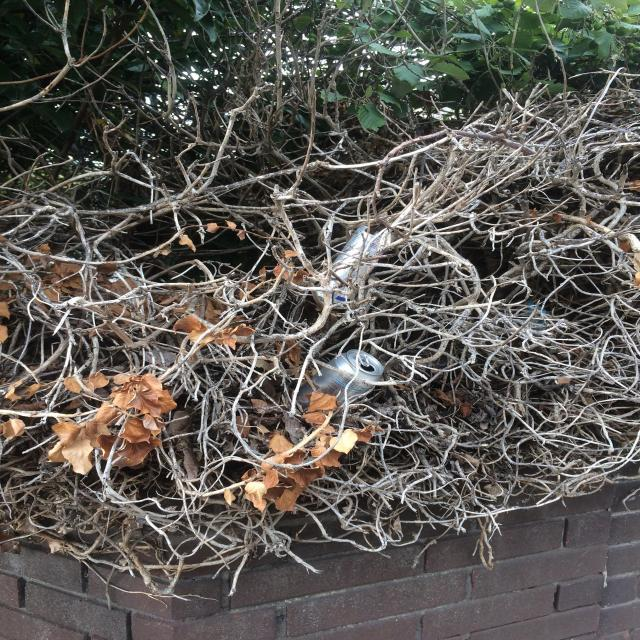Drink can: (317, 225, 398, 307), (296, 349, 383, 409)
Pop tab: (358, 353, 370, 367)
